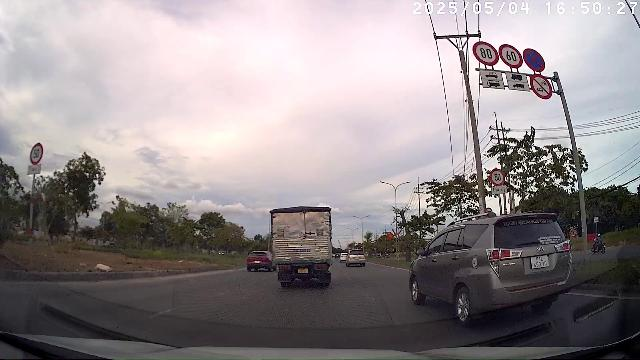127-toc-do-toi-da-50: (28, 142, 44, 164), (489, 168, 505, 185)
127-toc-do-toi-da-60: (499, 44, 523, 68)
127-toc-do-toi-da-80: (473, 42, 499, 66)
130-cam-dung-va-do-xe: (522, 48, 546, 72)
